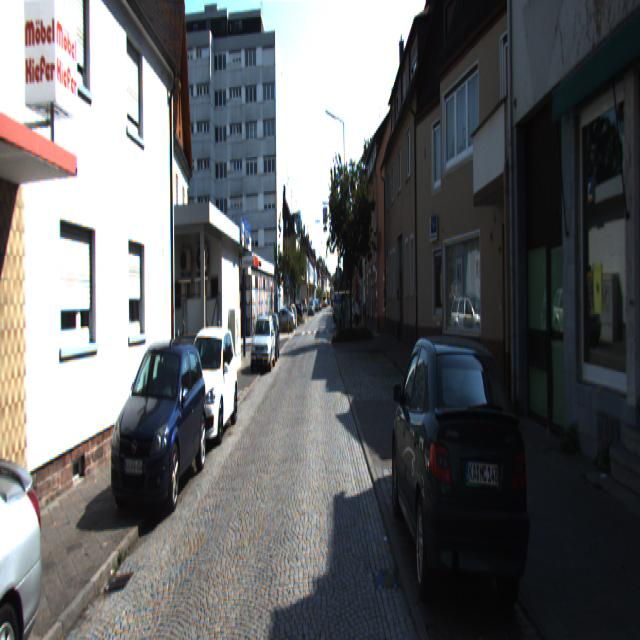Car: (388, 324, 540, 638), (106, 336, 208, 528), (0, 412, 50, 638), (175, 323, 239, 450), (249, 313, 275, 371)
